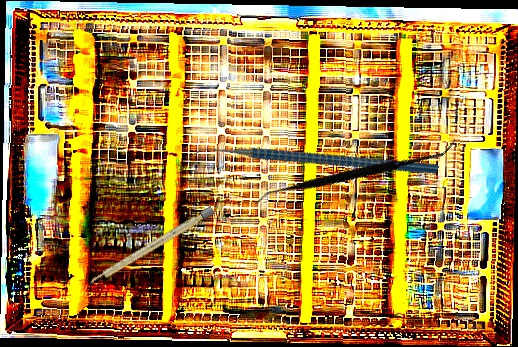Chopper: (184, 70, 440, 258)
Scalpel Handle: (87, 205, 216, 288)
Spatula Surgical: (253, 69, 457, 276)
